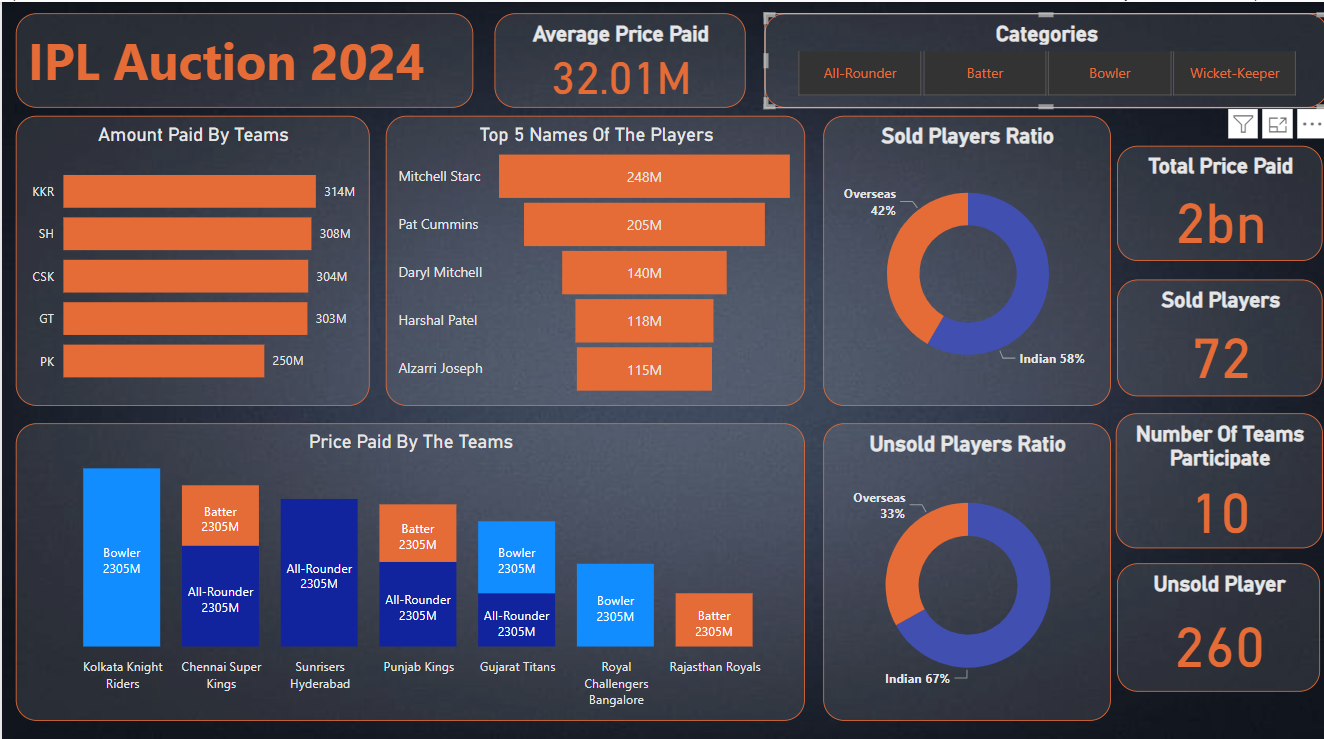

The page's visual inventory and layout, read from the dashboard file:
{"tool":"powerbi","page":{"name":"Page 1","canvas":[1280,720],"ordinal":0},"visuals":[{"type":"barChart","title":"Amount Paid By Teams","fields":{"Category":["IPL_PLAYERS.TEAM"],"Y":["IPL_PLAYERS.PRICE PAID"]},"box":[13.8,110,341.2,280],"z":0},{"type":"funnel","title":"Top 5 Names Of The Players","fields":{"Category":["IPL_PLAYERS.PLAYERS"],"Y":["IPL_PLAYERS.PRICE PAID"]},"box":[370,110,405,280],"z":1000},{"type":"card","title":"Unsold Player","fields":{"Values":["UNSOLD_PLAYERS.PLAYER"]},"box":[1076.2,541.2,196.2,123.8],"z":2000},{"type":"card","title":" Sold Players","fields":{"Values":["IPL_PLAYERS.PLAYERS"]},"box":[1076.2,267.5,198.8,112.5],"z":3000},{"type":"donutChart","title":"Unsold Players Ratio","fields":{"Category":["UNSOLD_PLAYERS.NATIONALITY"],"Y":["UNSOLD_PLAYERS.PLAYER"]},"box":[792.5,406.2,277.5,287.5],"z":4000},{"type":"columnChart","title":"Price Paid By The Teams","fields":{"Category":["TOP_BUYS.TEAM"],"Y":["TOP_BUYS.PRICE PAID"],"Series":["TOP_BUYS.TYPE"]},"box":[13.8,406.2,761.2,287.5],"z":5000},{"type":"slicer","title":"Categories","fields":{"Values":["Table.Types"]},"box":[736.2,11.2,543.8,91.2],"z":6000},{"type":"donutChart","title":"Sold Players Ratio","fields":{"Category":["IPL_PLAYERS.NATIONALITY"],"Y":["IPL_PLAYERS.PLAYERS"]},"box":[792.5,110,277.5,280],"z":7000},{"type":"card","title":"Number Of Teams Participate","fields":{"Values":["IPL_PLAYERS.TEAM"]},"box":[1075,397.5,200,130],"z":8000},{"type":"card","title":"Total Price Paid","fields":{"Values":["IPL_PLAYERS.PRICE PAID"]},"box":[1076.2,138.8,198.8,111.2],"z":9000},{"type":"textbox","box":[13.8,11.2,441.2,91.2],"z":10000},{"type":"card","title":"Average Price Paid","fields":{"Values":["IPL_PLAYERS.PRICE PAID"]},"box":[475,11.2,242.5,91.2],"z":11000}]}

Visuals, with their boxes on the page's 1280x720 design canvas (x1, y1, x2, y2). These are canvas units, not pixel positions in the 1324x739 screenshot, which may show the page scaled, cropped or inside an application window:
"Amount Paid By Teams" barChart: [14, 110, 355, 390]
"Top 5 Names Of The Players" funnel: [370, 110, 775, 390]
"Unsold Player" card: [1076, 541, 1272, 665]
" Sold Players" card: [1076, 268, 1275, 380]
"Unsold Players Ratio" donutChart: [792, 406, 1070, 694]
"Price Paid By The Teams" columnChart: [14, 406, 775, 694]
"Categories" slicer: [736, 11, 1280, 102]
"Sold Players Ratio" donutChart: [792, 110, 1070, 390]
"Number Of Teams Participate" card: [1075, 398, 1275, 528]
"Total Price Paid" card: [1076, 139, 1275, 250]
textbox: [14, 11, 455, 102]
"Average Price Paid" card: [475, 11, 718, 102]
